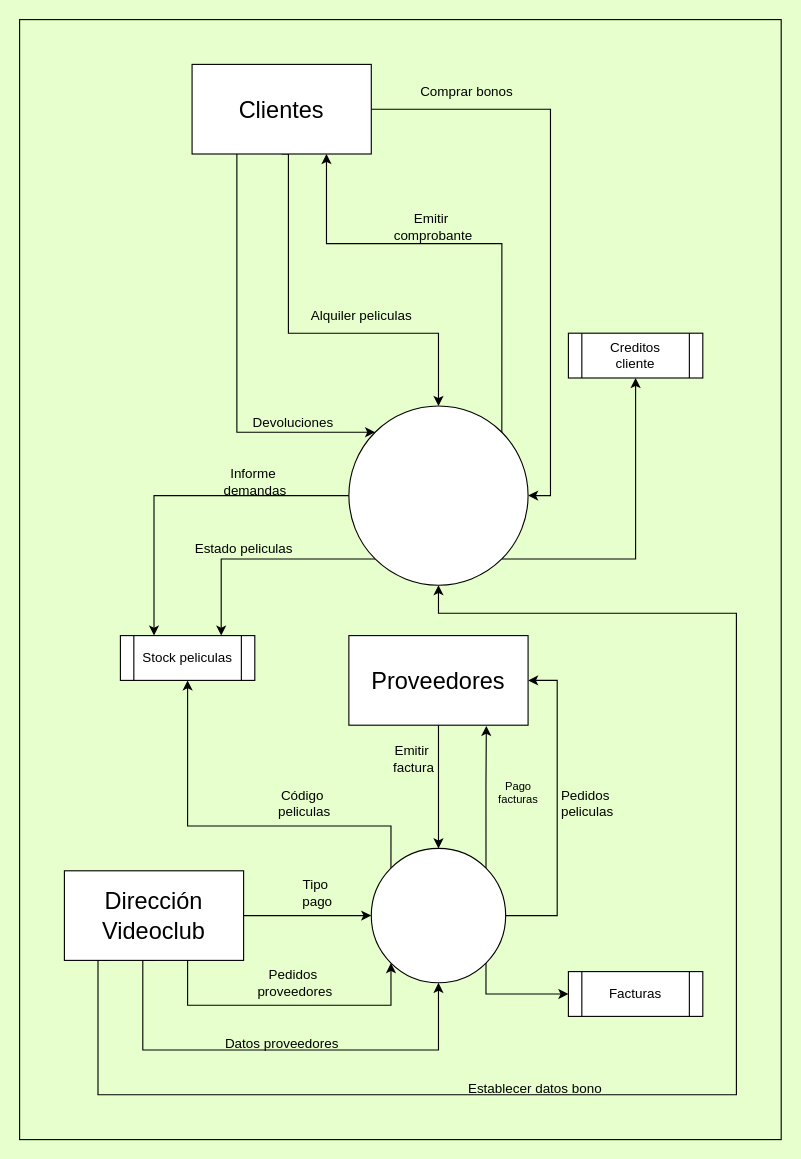
The diagram is 801 pixels wide and 1159 high, and some of its shapes have lost their labels. Each missing label, with the box of its shape:
1 Gestión Clientes: (348, 405, 528, 585)
2 Gestión proveedores: (370, 847, 506, 983)
